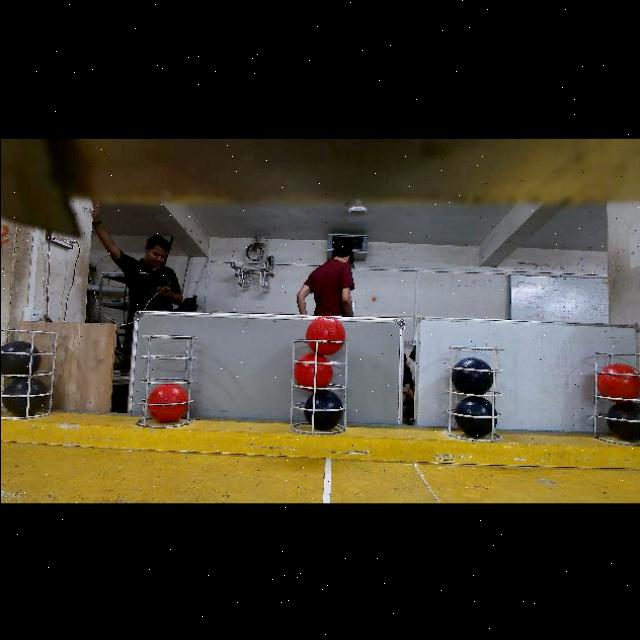P: (1, 376, 47, 413), (456, 396, 496, 435), (451, 356, 492, 393), (0, 340, 40, 377), (303, 389, 341, 427), (605, 401, 639, 440)
R: (597, 363, 640, 402), (147, 384, 186, 423), (293, 352, 332, 390), (305, 316, 344, 353)
S: (134, 328, 196, 429), (444, 346, 510, 439), (1, 326, 62, 419), (588, 348, 640, 442), (292, 341, 342, 435)
